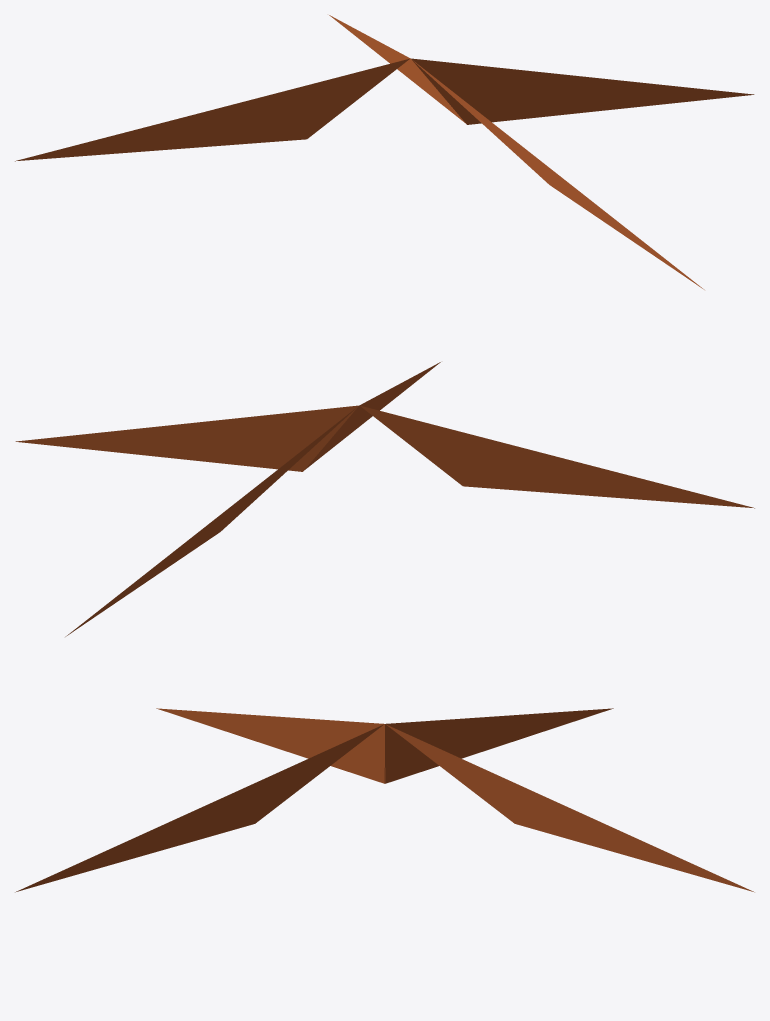
File: cover-starfish.glb
The picture shows the model from 3 angles, top to bottom: view 1: azimuth 30°, elevation 25°; view 2: azimuth 150°, elevation 25°; view 3: azimuth 270°, elevation 25°; orthographic projection. The views are drawn at different scales.
Visible parts, largest first — view 1: cover-starfish; view 2: cover-starfish; view 3: cover-starfish.
Part boxes in pixels (x1,y1,x2,y2): cover-starfish: (15,15,754,289); cover-starfish: (15,362,754,636); cover-starfish: (15,708,754,892).
Size of the model in its own units: 0.2171 by 0.04 by 0.2283.
